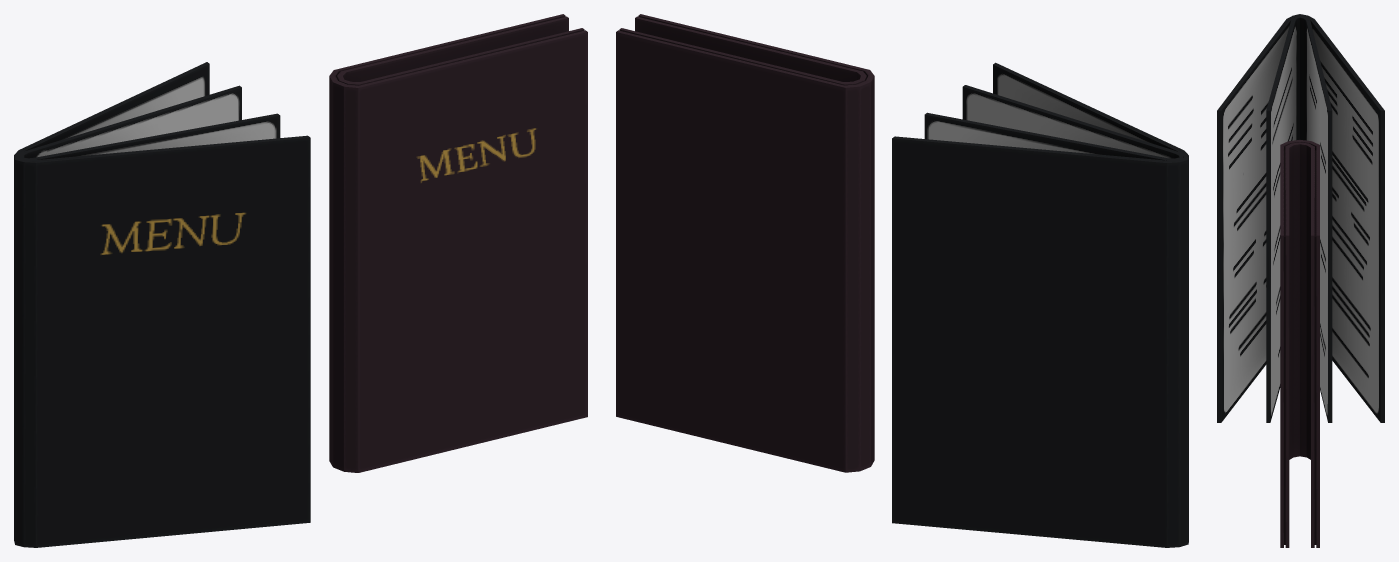
File: Menu.gltf
3 renders of one model, left to right at view 1: azimuth 30°, elevation 25°; view 2: azimuth 150°, elevation 25°; view 3: azimuth 270°, elevation 25°, orthographic. The views are drawn at different scales.
Parts seen in each view (by area): view 1: node-0; view 2: node-0; view 3: node-0.
Boxes of the visible parts, box(x1,y1,x2,y2) form: node-0: box(14, 14, 587, 547); node-0: box(616, 14, 1188, 547); node-0: box(1217, 14, 1384, 547).
Bounding box in the file's own units: 10.62 × 6.97 × 3.4.
1 material, 1 textured.
